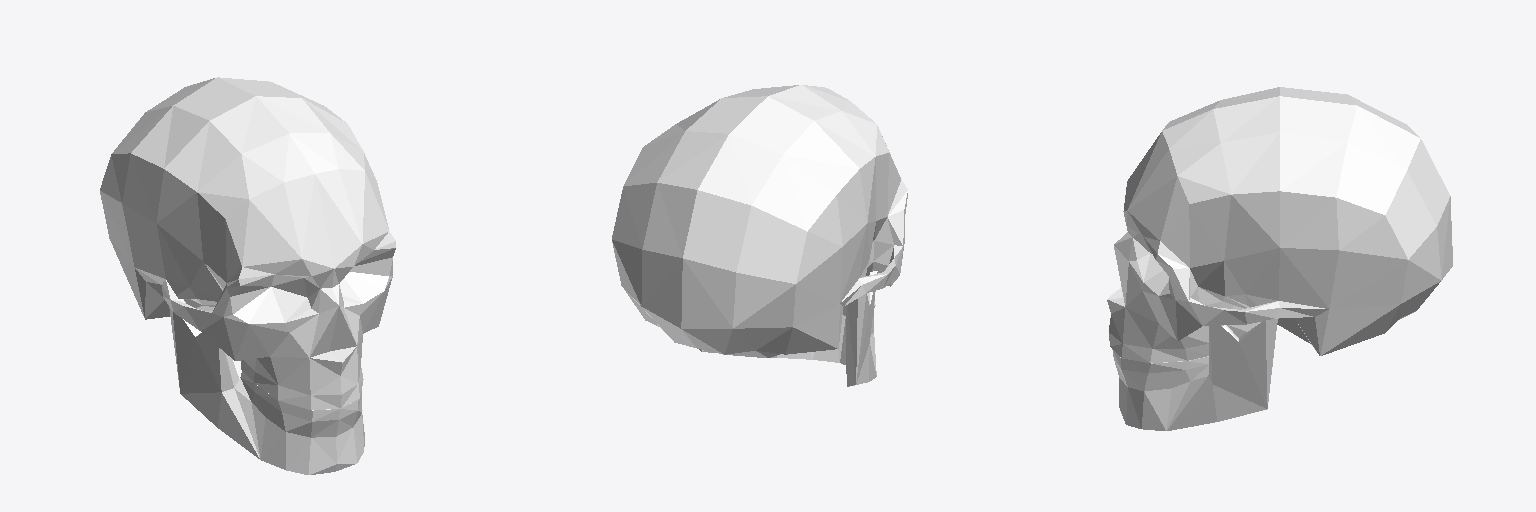
File: Skull.obj
The picture shows the model from 3 angles: view 1: azimuth 30°, elevation 25°; view 2: azimuth 150°, elevation 25°; view 3: azimuth 270°, elevation 25°; orthographic projection.
Parts seen in each view (by area): view 1: Cube_Material, Cube.001_Material; view 2: Cube_Material, Cube.001_Material; view 3: Cube_Material, Cube.001_Material.
Part boxes in pixels (bbox=[...]): Cube_Material: bbox=[100, 77, 395, 409]; Cube.001_Material: bbox=[169, 299, 364, 474]; Cube_Material: bbox=[612, 85, 907, 357]; Cube.001_Material: bbox=[699, 271, 877, 386]; Cube_Material: bbox=[1107, 87, 1452, 362]; Cube.001_Material: bbox=[1112, 306, 1277, 430].
Size of the model in its own units: 1.36 by 1.99 by 1.95.